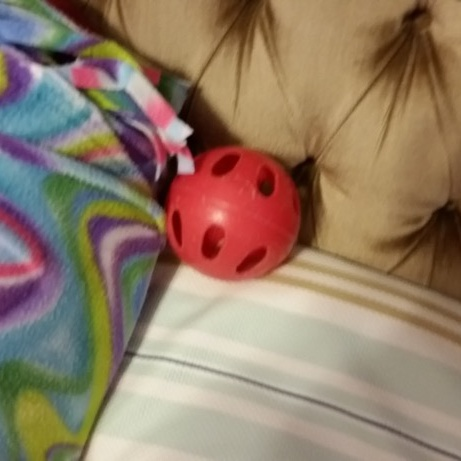redball: (160, 141, 305, 284)
